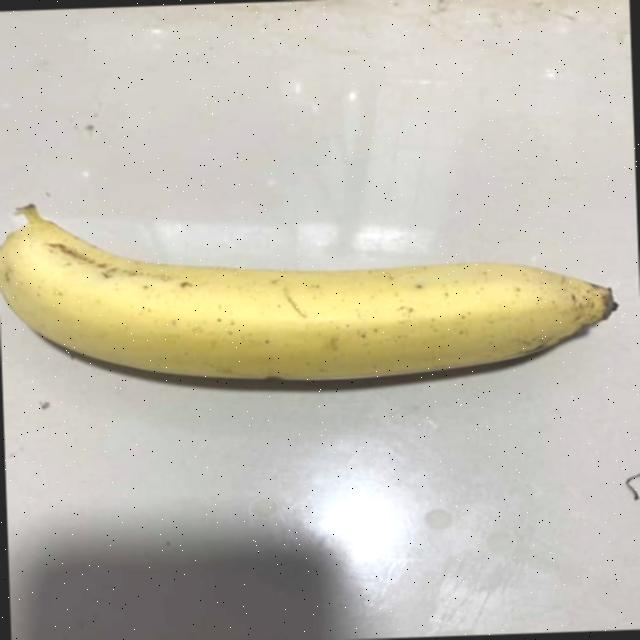Ripe: (0, 169, 634, 412)
